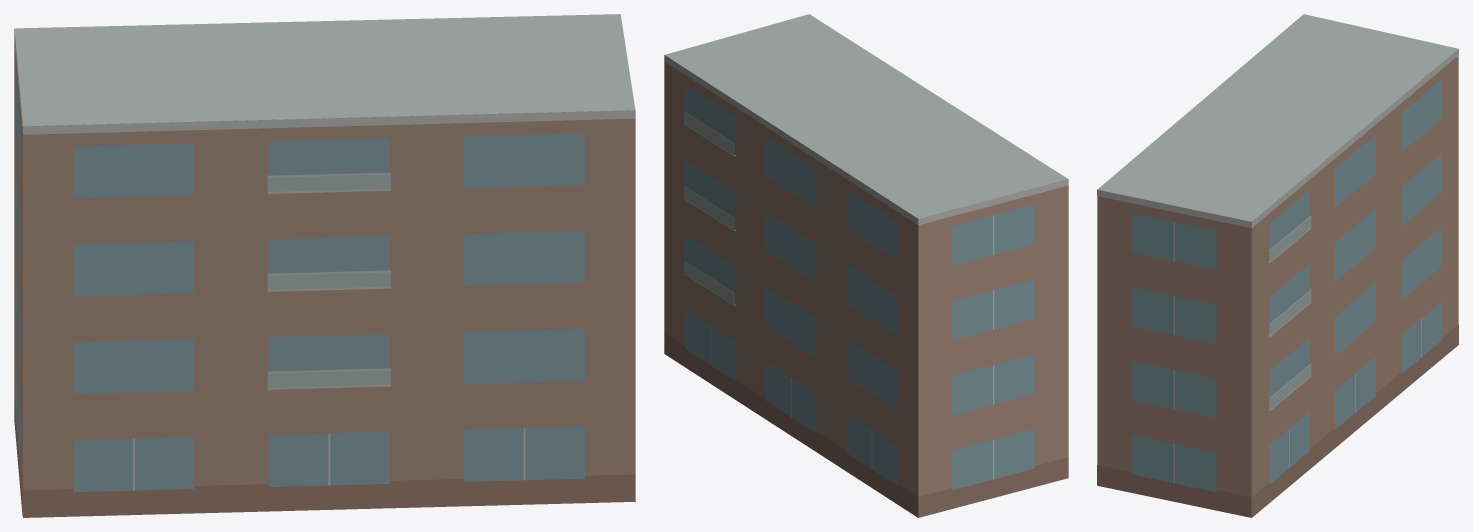
Rendered from survey-upis-32887586.glb.
3 views of the same model, side by side, from view 1: azimuth 30°, elevation 25°; view 2: azimuth 150°, elevation 25°; view 3: azimuth 270°, elevation 25° (orthographic). The views are drawn at different scales.
Visible parts, largest first — view 1: survey-upis-32887586.tmp; view 2: survey-upis-32887586.tmp; view 3: survey-upis-32887586.tmp.
Part boxes in pixels (x1,y1,x2,y2): survey-upis-32887586.tmp: (14, 14, 635, 517); survey-upis-32887586.tmp: (664, 14, 1068, 517); survey-upis-32887586.tmp: (1097, 14, 1458, 517).
Size of the model in its own units: 17.03 by 11.3 by 12.52.
